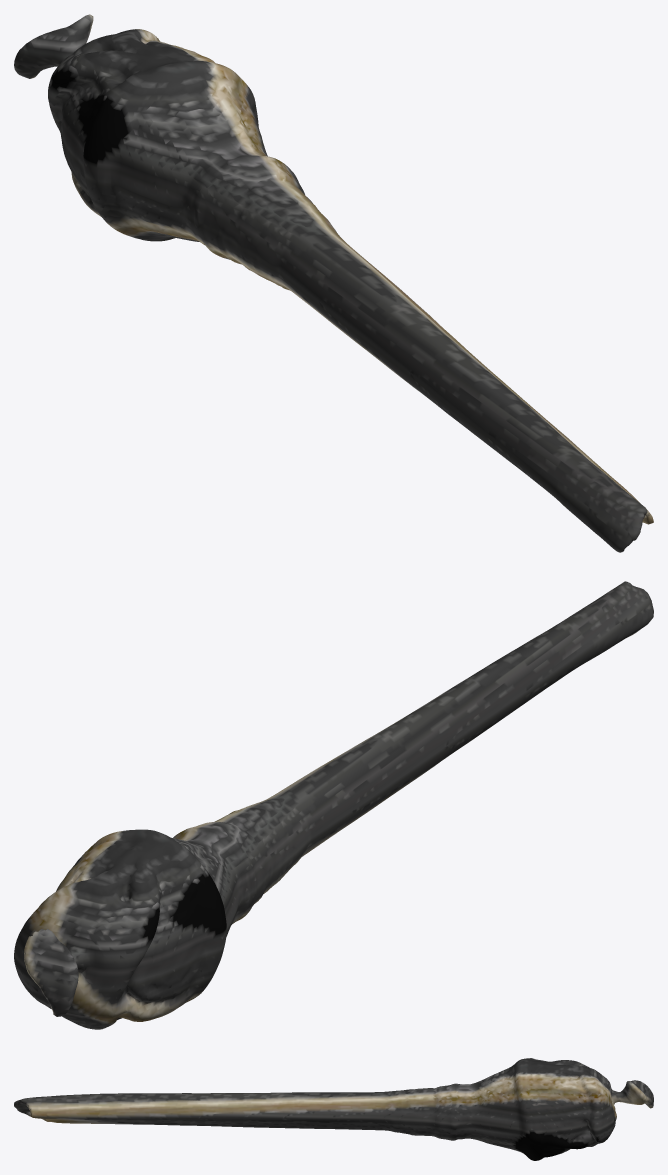
Rendered from golden-scepter.glb.
3 renders of one model, top to bottom at view 1: azimuth 30°, elevation 25°; view 2: azimuth 150°, elevation 25°; view 3: azimuth 270°, elevation 25°, orthographic. The views are drawn at different scales.
Size of the model in its own units: 0.3188 by 0.3182 by 1.99.
